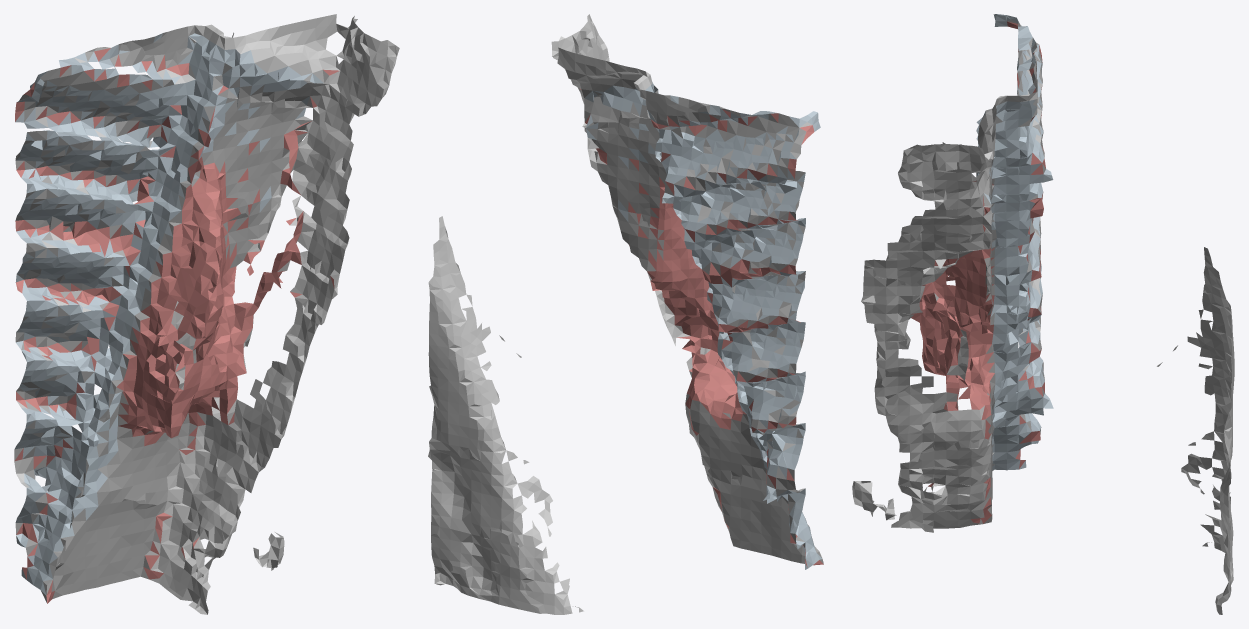
File: B173-뜬면-1__lt_dynnow_ALS_s0__after.glb
3 views of the same model, side by side, from view 1: azimuth 30°, elevation 25°; view 2: azimuth 150°, elevation 25°; view 3: azimuth 270°, elevation 25° (orthographic). The views are drawn at different scales.
Bounding box in the file's own units: 21.69 × 34.42 × 25.32.
